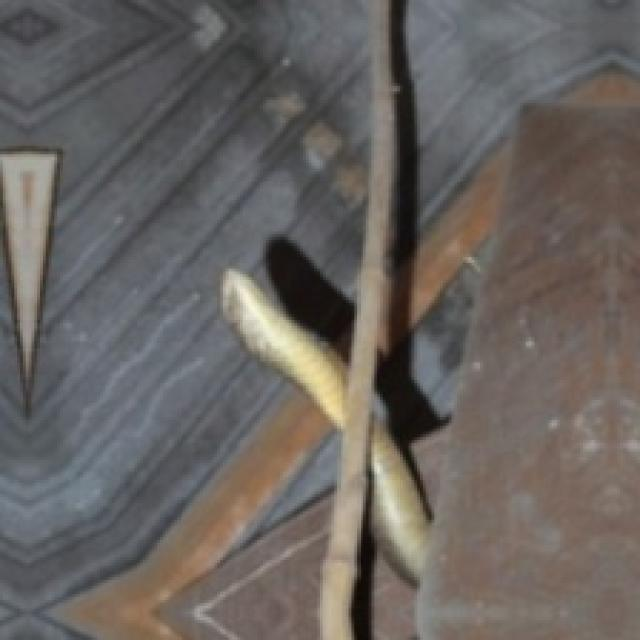king cobra: (220, 269, 343, 426), (371, 423, 426, 580)
